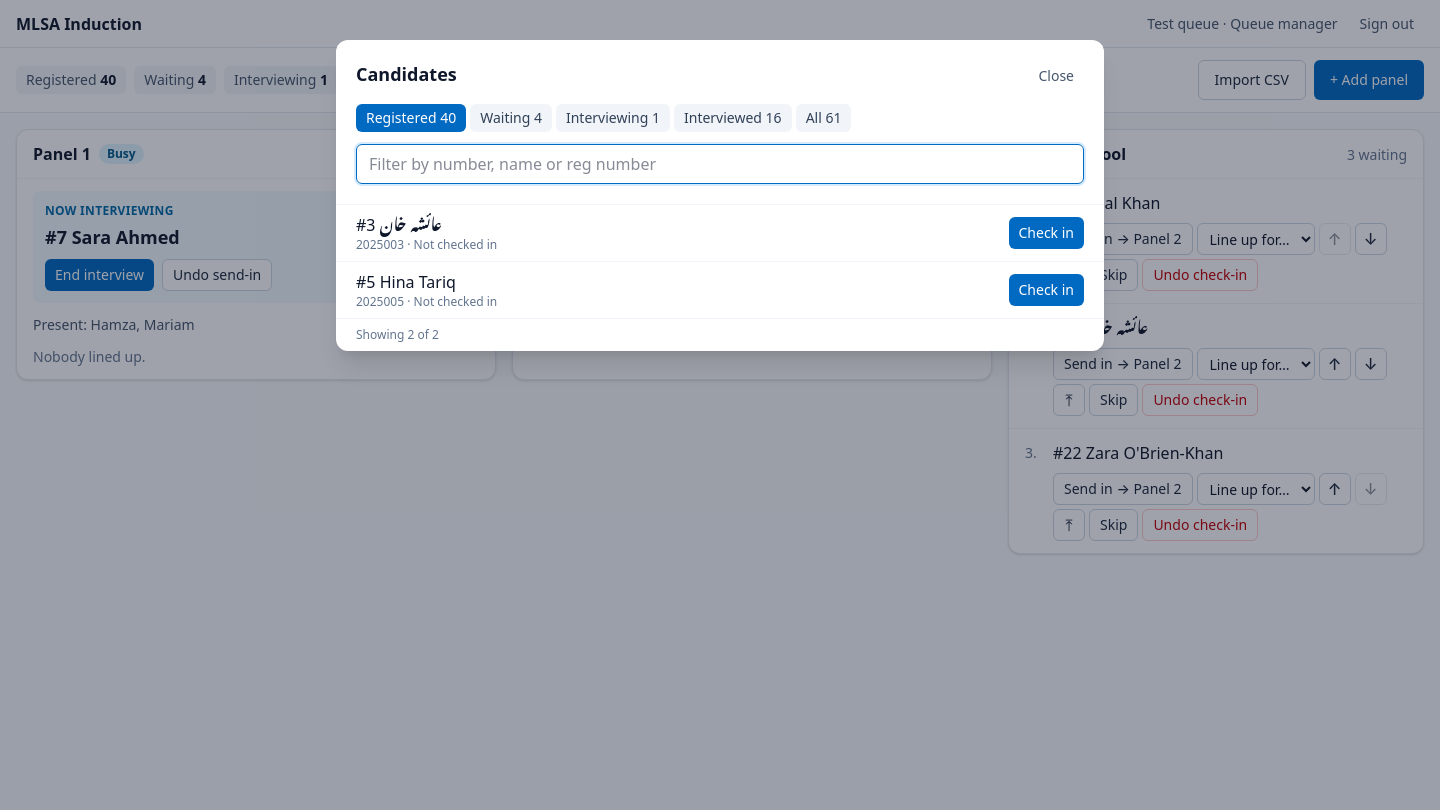
it: candidate list › switches between statuses and says where each person is
This screenshot has width=1440, height=810.
Check: the element "Panel 1" is shown, box [16,129,496,380]
What coordinates should you click on to do the following:
click the button "Waiting 4"
I would click on:
 (511, 118)
Its box is [470,104,552,132].
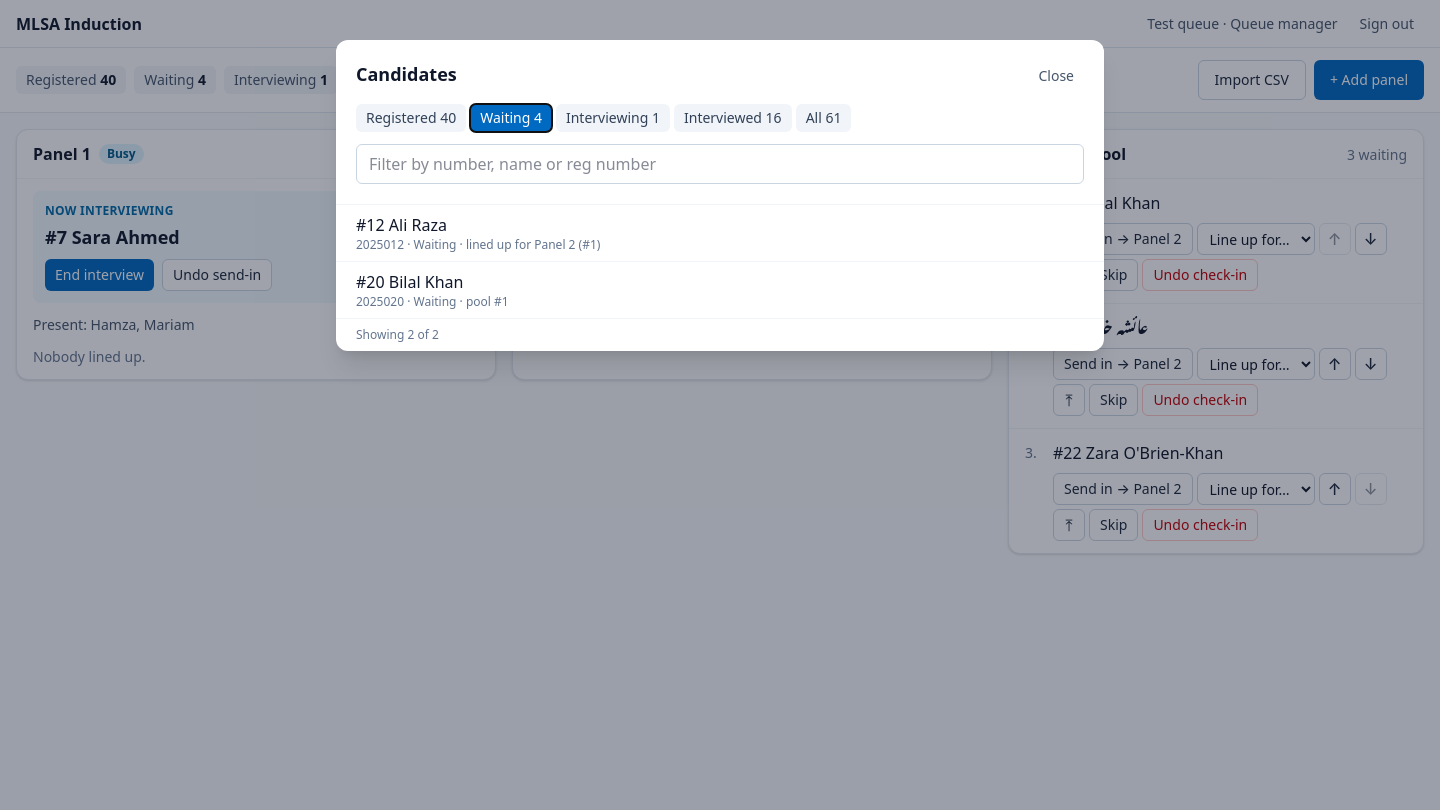
Check: the text "2025012 · Waiting · lined up for Panel 2 (#1)" is shown, box [356,236,600,253]
Check: the text "2025020 · Waiting · pool #1" is shown, box [356,293,509,310]
Check: the button "Check in" is gone
What coordinates should you click on to do the following:
click the button "All 61"
I would click on:
 (824, 118)
Its box is [796,104,851,132].
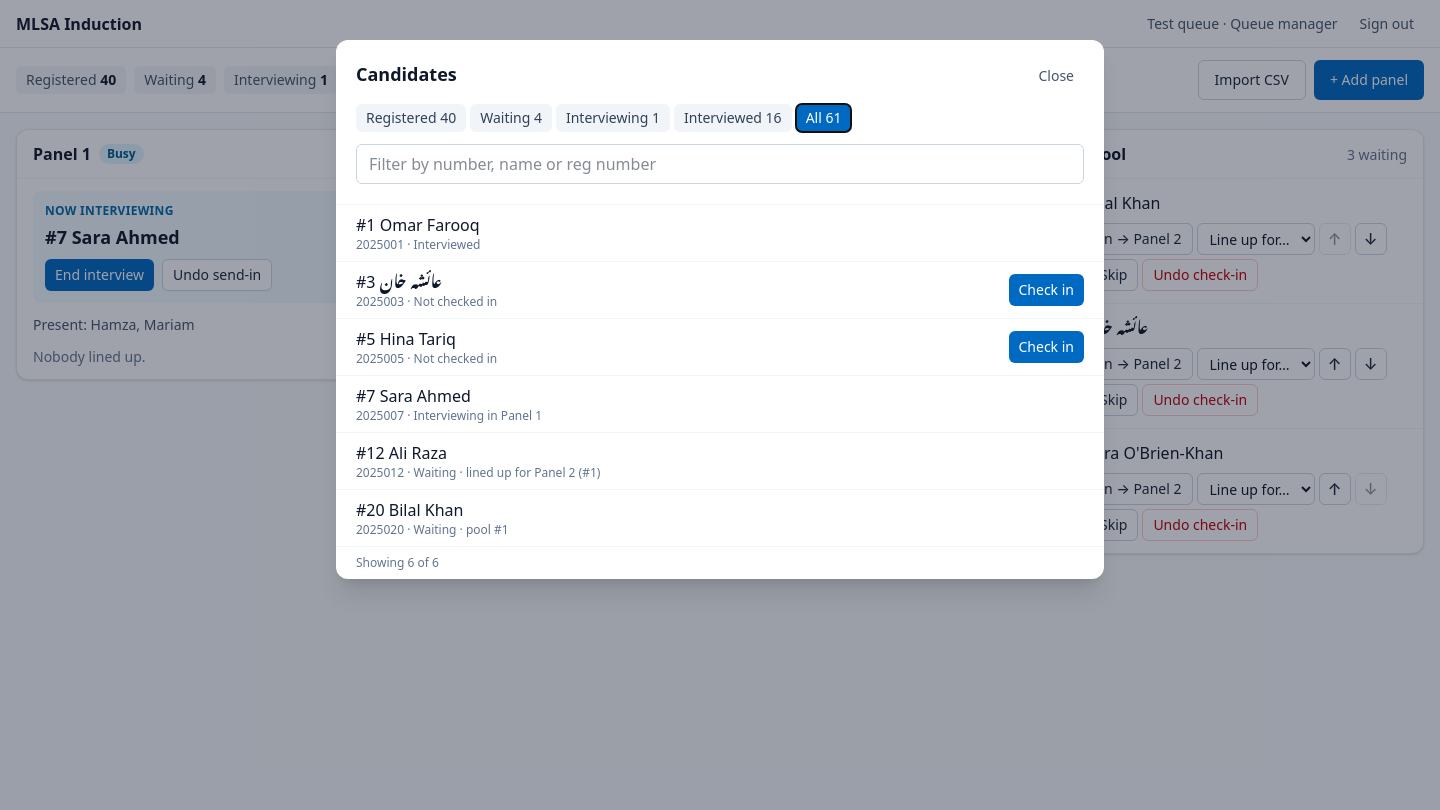
Check: the text "2025007 · Interviewing in Panel 1" is shown, box [356,407,542,424]
